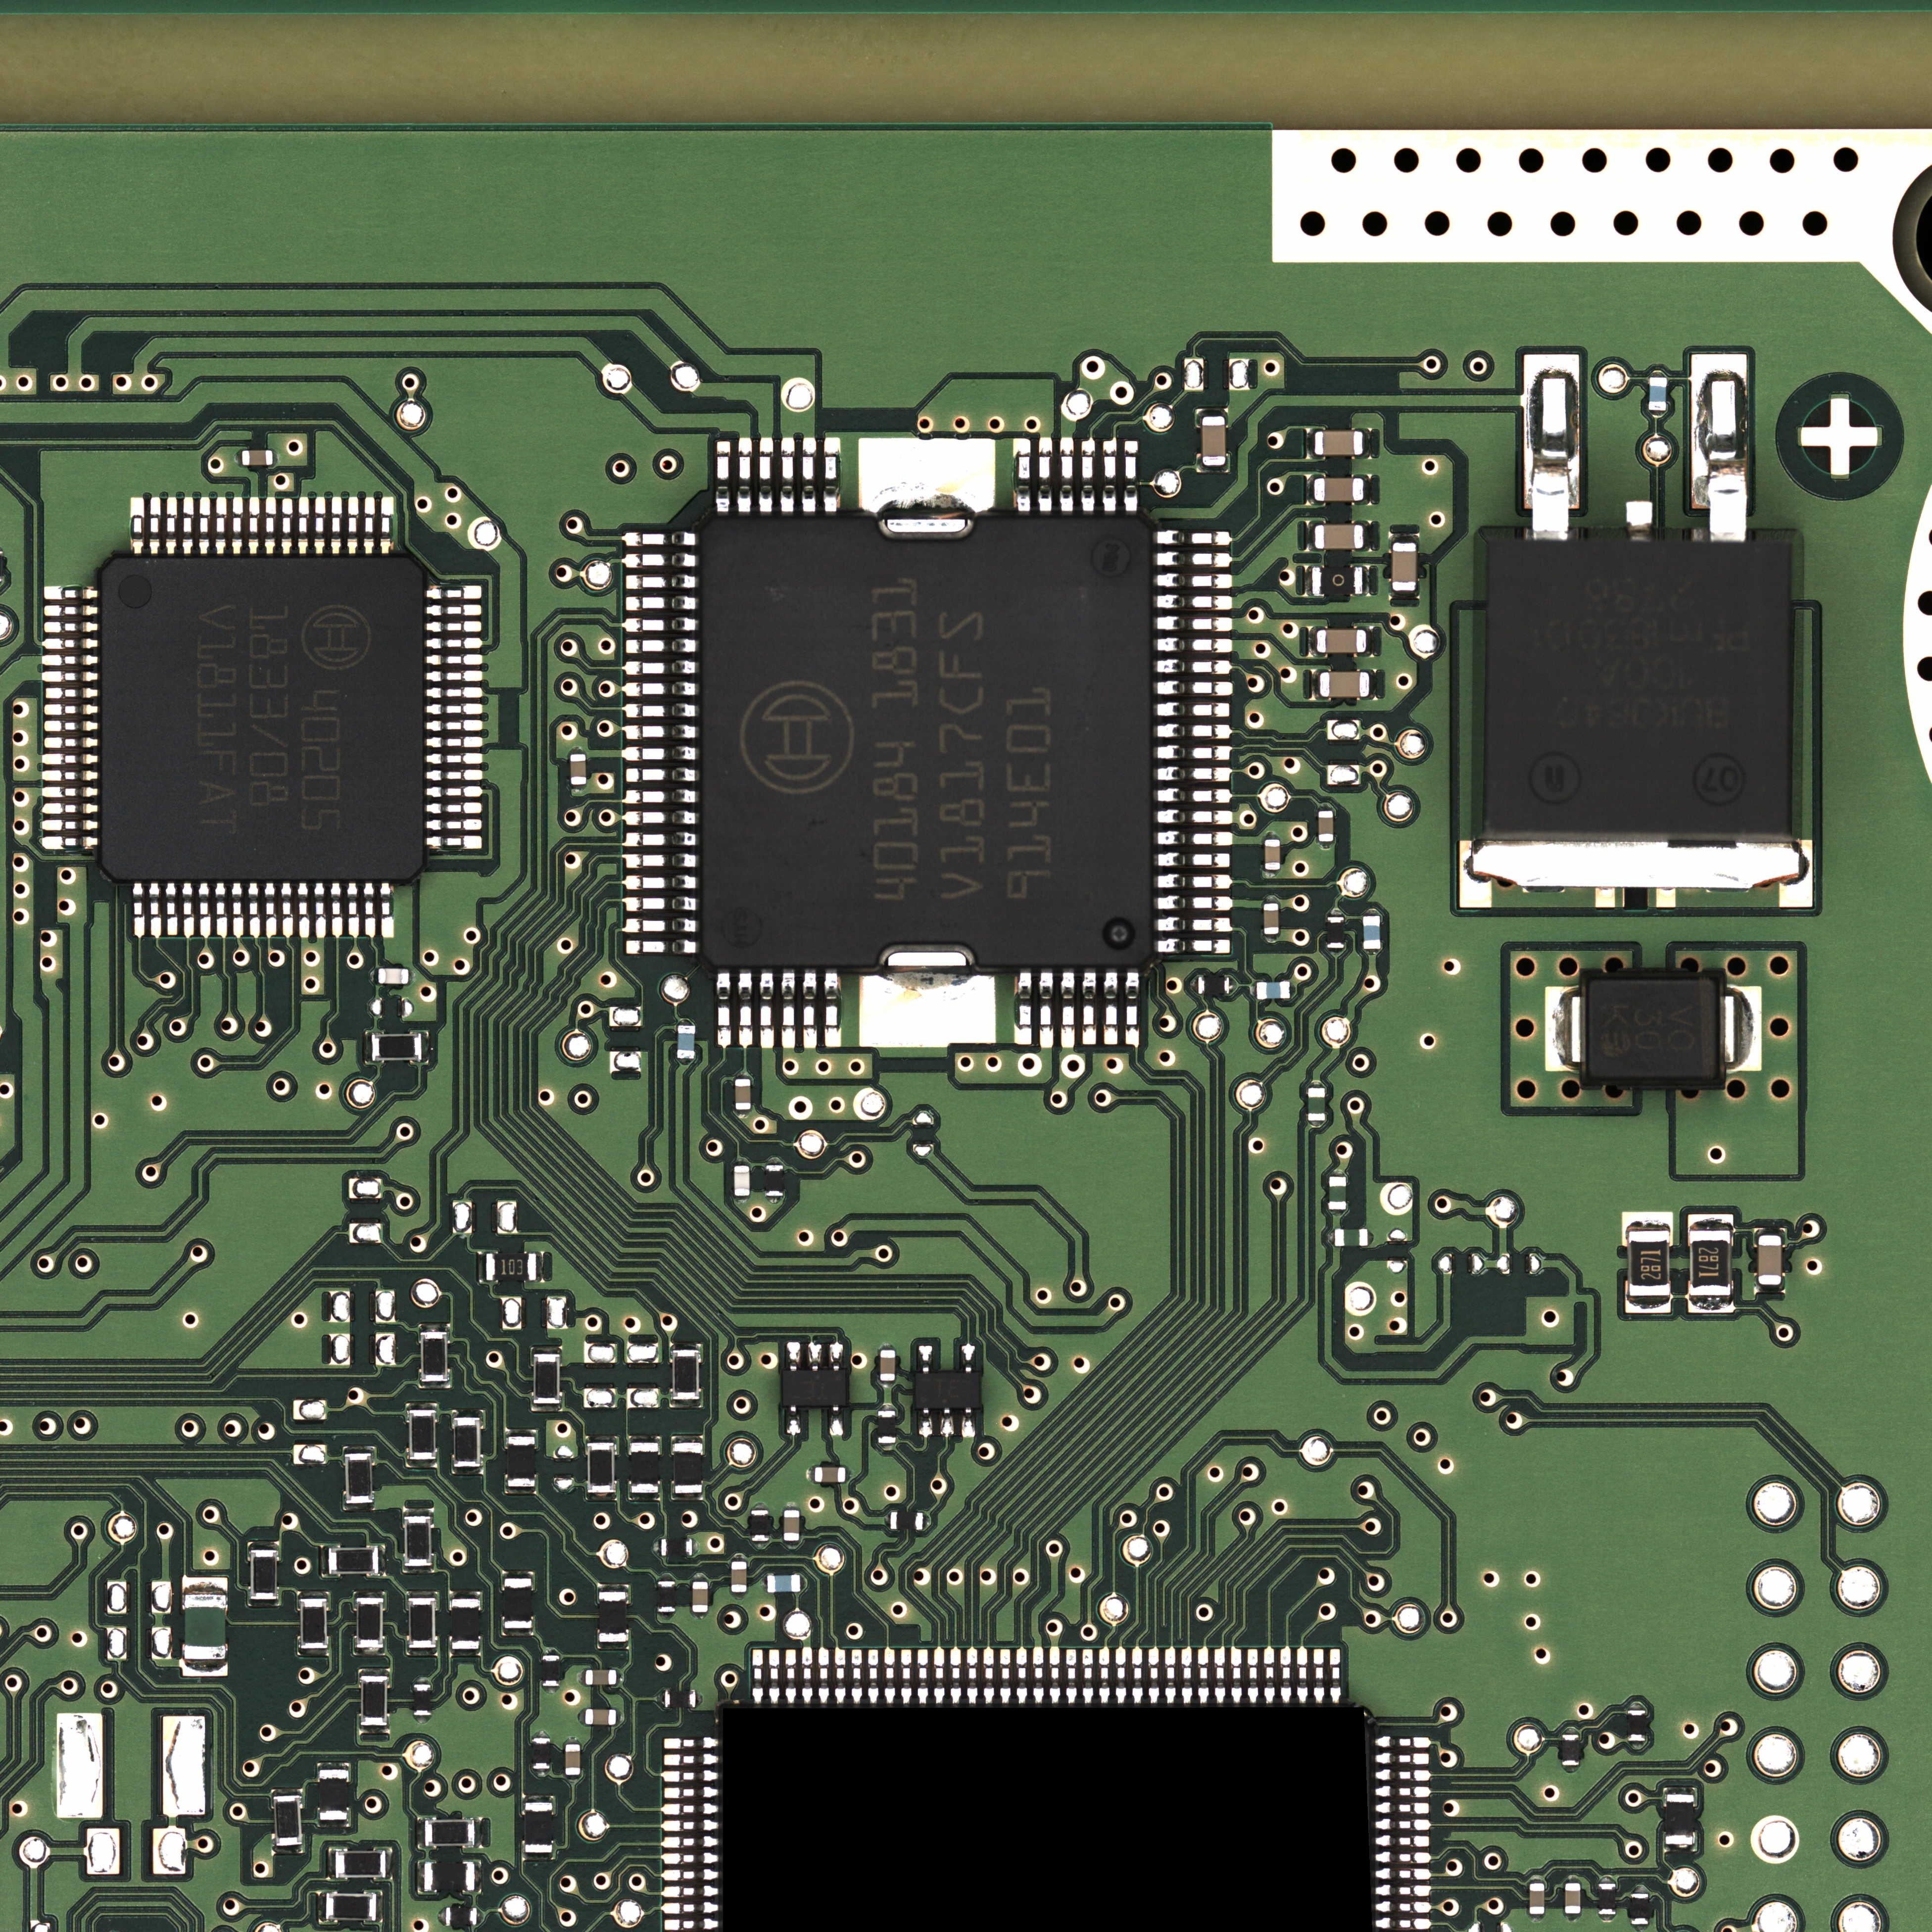Package: (701, 515, 1154, 968), (101, 556, 425, 881), (1486, 541, 1792, 842), (1587, 980, 1718, 1077), (184, 1594, 226, 1660), (1628, 1231, 1670, 1297), (1690, 1231, 1730, 1295), (915, 1373, 980, 1408), (782, 1371, 847, 1407), (318, 1769, 349, 1819), (630, 1442, 658, 1493), (485, 1253, 536, 1281), (1311, 568, 1362, 596), (674, 1444, 702, 1493), (598, 1592, 626, 1642), (451, 1599, 479, 1649), (425, 1863, 474, 1891), (1665, 1794, 1693, 1844), (336, 1851, 386, 1877), (504, 1578, 531, 1628), (672, 1350, 699, 1399), (326, 1893, 375, 1920), (508, 1437, 534, 1486), (329, 1548, 379, 1575), (361, 1675, 387, 1725), (409, 1410, 435, 1460), (587, 1444, 614, 1493), (421, 1332, 448, 1382), (274, 1796, 301, 1845), (525, 1803, 552, 1852), (1315, 430, 1364, 456), (425, 1821, 474, 1845), (372, 1035, 421, 1060), (405, 1516, 430, 1566), (251, 1550, 276, 1599), (357, 1598, 382, 1647), (455, 1417, 479, 1467), (409, 1598, 433, 1647), (1201, 416, 1226, 465), (1320, 672, 1369, 697), (1315, 524, 1364, 548), (347, 1454, 372, 1502), (301, 1599, 326, 1647), (534, 1355, 559, 1403), (1392, 543, 1417, 591), (1316, 630, 1366, 653), (1315, 478, 1364, 501), (1759, 1235, 1782, 1284), (750, 1509, 770, 1541), (678, 1024, 695, 1058), (890, 1513, 924, 1530), (878, 1410, 895, 1444), (766, 1575, 800, 1592), (1649, 377, 1667, 410), (1329, 1177, 1346, 1210), (1256, 982, 1290, 1000), (533, 1737, 550, 1769), (414, 1684, 432, 1716), (446, 1907, 478, 1925), (1362, 916, 1380, 948), (1327, 916, 1345, 948), (1307, 1088, 1325, 1120), (1198, 977, 1230, 994), (1562, 1734, 1580, 1766), (1631, 1893, 1649, 1925), (1628, 1709, 1645, 1741), (1598, 1882, 1615, 1914), (1334, 1230, 1368, 1246), (570, 754, 587, 784), (766, 1166, 784, 1196), (1318, 810, 1334, 842), (1265, 839, 1281, 870), (1529, 1882, 1545, 1914), (242, 449, 272, 465), (379, 968, 409, 984), (662, 1539, 692, 1555), (692, 1582, 708, 1612), (564, 1744, 580, 1775), (731, 1562, 747, 1592), (586, 1709, 616, 1725), (734, 1166, 750, 1196), (658, 1582, 674, 1612), (816, 1467, 846, 1483), (543, 1656, 559, 1686), (784, 1511, 800, 1541), (665, 1691, 695, 1707), (1263, 904, 1279, 934), (1564, 1882, 1580, 1913), (736, 1079, 750, 1109), (586, 1670, 616, 1684), (881, 1350, 895, 1380)
Solder: (1523, 354, 1580, 541), (858, 437, 994, 515), (860, 971, 996, 1049), (1691, 354, 1748, 540), (1718, 985, 1762, 1070), (1545, 987, 1587, 1070), (1780, 839, 1813, 908), (1460, 840, 1491, 908), (824, 970, 842, 1047), (1155, 938, 1231, 955), (1155, 529, 1231, 547), (1014, 970, 1031, 1046), (1154, 830, 1233, 846), (1155, 724, 1233, 740), (1155, 787, 1233, 803), (1155, 658, 1233, 674), (1155, 637, 1233, 653), (1155, 874, 1233, 890), (1155, 552, 1233, 568), (1155, 916, 1233, 932), (1155, 679, 1233, 695), (1155, 573, 1233, 589), (1155, 745, 1233, 761), (1155, 809, 1233, 824), (1155, 616, 1233, 632), (1155, 766, 1233, 782), (1155, 895, 1233, 911), (1155, 594, 1233, 610), (1060, 970, 1076, 1047), (1058, 435, 1074, 513), (623, 660, 699, 676), (623, 724, 699, 740), (1155, 702, 1231, 718), (1081, 970, 1097, 1046), (715, 437, 731, 513), (780, 437, 796, 513), (801, 437, 817, 513), (1016, 437, 1031, 513), (1123, 437, 1139, 513), (623, 702, 697, 718), (623, 810, 697, 826), (623, 681, 697, 697), (623, 617, 697, 633), (623, 552, 697, 568), (623, 853, 697, 869), (623, 789, 697, 805), (623, 531, 697, 547), (623, 832, 697, 847), (625, 939, 697, 955), (625, 918, 697, 934), (803, 970, 817, 1047), (782, 971, 796, 1049), (759, 971, 773, 1049), (1125, 968, 1139, 1046), (1039, 970, 1053, 1047), (1081, 435, 1095, 513), (1102, 435, 1116, 513), (623, 747, 699, 761), (1155, 853, 1231, 867), (1104, 970, 1118, 1046), (738, 437, 752, 513), (759, 437, 773, 513), (824, 437, 839, 513), (1039, 437, 1053, 513), (623, 876, 697, 890), (625, 596, 699, 610), (625, 897, 699, 911), (717, 973, 731, 1047), (738, 973, 752, 1047), (1626, 501, 1652, 540), (625, 639, 697, 653), (625, 575, 697, 589), (625, 768, 697, 782), (1622, 1212, 1674, 1231), (1624, 1295, 1672, 1313), (182, 1576, 228, 1594), (1688, 1214, 1734, 1231), (1688, 1295, 1734, 1313), (380, 883, 395, 939), (426, 586, 481, 600), (426, 835, 481, 849), (44, 586, 97, 600), (182, 1660, 228, 1675), (380, 495, 393, 554), (131, 497, 143, 556), (41, 837, 99, 849), (149, 497, 161, 556), (347, 497, 359, 556), (198, 497, 211, 556), (425, 736, 483, 748), (297, 497, 310, 556), (426, 686, 483, 699), (426, 671, 483, 683), (426, 637, 483, 649), (42, 637, 99, 649), (42, 671, 99, 683), (42, 770, 99, 782), (42, 786, 99, 798), (426, 786, 483, 798), (42, 819, 99, 832), (426, 770, 483, 782), (768, 1649, 780, 1706), (784, 1649, 796, 1706), (867, 1649, 879, 1706), (817, 1649, 830, 1706), (833, 1649, 846, 1706), (916, 1649, 929, 1706), (932, 1649, 945, 1706), (966, 1649, 978, 1706), (982, 1649, 994, 1706), (1016, 1649, 1028, 1706), (1031, 1649, 1044, 1706), (1065, 1649, 1077, 1706), (1148, 1649, 1161, 1706), (1164, 1649, 1177, 1706), (1180, 1649, 1192, 1706), (1198, 1647, 1210, 1704), (1214, 1647, 1226, 1704), (1247, 1649, 1260, 1706), (1099, 1647, 1111, 1704), (1115, 1647, 1127, 1704), (1081, 1649, 1093, 1706), (1297, 1647, 1309, 1704), (1313, 1647, 1325, 1704), (1375, 1884, 1431, 1897), (347, 883, 359, 938), (44, 621, 99, 633), (133, 883, 145, 938), (44, 686, 99, 699), (426, 819, 481, 832), (182, 883, 195, 938), (44, 736, 99, 748), (44, 720, 99, 732), (1263, 1649, 1276, 1704), (331, 495, 341, 556), (315, 495, 326, 556), (425, 704, 483, 715), (425, 720, 483, 731), (364, 497, 375, 556), (166, 497, 177, 556), (281, 497, 292, 556), (265, 497, 276, 556), (216, 497, 226, 556), (249, 497, 260, 556), (232, 497, 242, 556), (663, 1920, 722, 1930), (663, 1904, 722, 1914), (662, 1870, 720, 1881), (662, 1886, 720, 1897), (662, 1852, 720, 1863), (662, 1836, 720, 1847), (662, 1821, 720, 1831), (662, 1805, 720, 1815), (662, 1739, 720, 1750), (662, 1755, 720, 1766), (662, 1771, 720, 1782), (662, 1787, 720, 1798), (315, 883, 326, 939), (426, 655, 483, 665), (42, 655, 99, 665), (182, 497, 193, 554), (42, 803, 99, 814), (42, 754, 99, 764), (426, 754, 483, 764), (752, 1649, 763, 1706), (801, 1649, 812, 1706), (851, 1649, 862, 1706), (950, 1649, 961, 1706), (885, 1649, 895, 1706), (901, 1649, 911, 1706), (1000, 1649, 1010, 1706), (1049, 1649, 1060, 1706), (1132, 1649, 1143, 1706), (1330, 1647, 1341, 1704), (1375, 1753, 1431, 1764), (1375, 1785, 1431, 1796), (1375, 1852, 1431, 1863), (1375, 1918, 1431, 1928), (364, 883, 375, 938), (426, 605, 481, 616), (426, 621, 481, 632), (44, 605, 99, 616), (331, 883, 341, 938), (150, 883, 161, 938), (44, 704, 99, 715), (265, 883, 276, 938), (426, 803, 481, 814), (200, 883, 211, 938), (249, 883, 260, 938), (232, 883, 242, 938), (216, 883, 226, 938), (281, 883, 292, 938), (299, 883, 310, 938), (1231, 1649, 1242, 1704), (1281, 1649, 1292, 1704), (1375, 1737, 1430, 1748), (1375, 1769, 1430, 1780), (1375, 1821, 1430, 1831), (1375, 1803, 1430, 1813), (1375, 1835, 1430, 1845), (1375, 1902, 1430, 1913), (1375, 1868, 1430, 1879), (166, 883, 177, 936), (1656, 886, 1675, 908), (1596, 886, 1615, 908), (830, 1407, 844, 1435), (939, 1408, 954, 1437), (918, 1408, 932, 1437), (961, 1345, 975, 1373), (787, 1407, 800, 1435), (962, 1408, 975, 1437), (809, 1343, 821, 1371), (787, 1341, 800, 1369), (920, 1345, 932, 1373), (1304, 520, 1315, 552), (1302, 564, 1313, 596), (1309, 669, 1320, 701), (830, 1343, 842, 1369), (1362, 428, 1373, 458), (669, 1399, 702, 1408), (343, 1445, 375, 1454), (449, 1591, 481, 1599), (531, 1345, 563, 1353), (536, 1251, 545, 1283), (531, 1403, 563, 1412), (478, 1251, 487, 1283), (1306, 428, 1315, 460), (1196, 407, 1228, 416), (419, 1323, 449, 1332), (421, 1031, 430, 1062), (407, 1460, 437, 1468), (272, 1845, 303, 1854), (407, 1647, 437, 1656), (359, 1725, 389, 1734), (318, 1760, 349, 1769), (318, 1819, 349, 1828), (453, 1467, 483, 1476), (506, 1428, 536, 1437), (672, 1435, 702, 1444), (598, 1583, 628, 1592), (506, 1486, 536, 1495), (502, 1628, 533, 1637), (1364, 474, 1373, 504), (1369, 669, 1378, 699), (1362, 566, 1371, 596), (1389, 591, 1419, 600), (1366, 626, 1375, 656), (1389, 533, 1419, 541), (1307, 626, 1316, 656), (1755, 1284, 1785, 1293), (1665, 1844, 1695, 1852), (299, 1591, 327, 1599), (249, 1541, 278, 1550), (356, 1647, 384, 1656), (1364, 522, 1373, 550), (1306, 476, 1315, 504), (1196, 465, 1230, 472), (343, 1504, 375, 1511), (327, 1849, 334, 1881), (318, 1891, 326, 1923), (586, 1435, 617, 1442), (522, 1852, 554, 1859), (419, 1382, 449, 1389), (407, 1403, 437, 1410), (453, 1410, 483, 1417), (403, 1509, 433, 1516), (359, 1668, 389, 1675), (386, 1849, 393, 1879), (418, 1861, 425, 1891), (474, 1817, 481, 1847), (379, 1545, 386, 1575), (474, 1861, 481, 1891), (403, 1566, 433, 1573), (375, 1891, 382, 1921), (671, 1343, 701, 1350), (672, 1493, 702, 1500), (630, 1493, 660, 1500), (502, 1571, 533, 1578), (598, 1642, 628, 1649), (1755, 1228, 1785, 1235), (1665, 1787, 1695, 1794), (364, 1033, 372, 1062), (322, 1546, 329, 1575), (356, 1591, 384, 1598), (451, 1649, 479, 1656), (418, 1819, 425, 1847), (299, 1649, 327, 1656), (249, 1599, 278, 1606), (409, 1591, 437, 1598), (272, 1789, 301, 1796), (524, 1796, 552, 1803), (587, 1493, 616, 1500), (412, 1714, 432, 1723), (878, 1442, 897, 1451), (656, 1690, 665, 1709), (1189, 975, 1198, 994), (628, 1437, 660, 1442), (437, 1907, 446, 1925), (658, 1612, 676, 1621), (1598, 1875, 1615, 1884), (1628, 1702, 1645, 1711), (1631, 1923, 1649, 1932), (695, 1691, 704, 1707), (658, 1573, 674, 1582), (616, 1709, 625, 1725), (807, 1467, 816, 1483), (752, 1502, 768, 1511), (412, 1677, 432, 1684), (1290, 980, 1297, 1000), (678, 1019, 695, 1026), (678, 1058, 695, 1065), (766, 1159, 784, 1166), (533, 1769, 550, 1776), (761, 1575, 768, 1592), (1362, 909, 1380, 916), (1327, 909, 1345, 916), (1307, 1120, 1325, 1127), (1307, 1081, 1325, 1088), (1329, 1169, 1346, 1177), (1230, 977, 1237, 994), (1649, 370, 1667, 377), (1566, 1875, 1580, 1884), (1562, 1766, 1580, 1773), (1628, 1741, 1645, 1748), (1598, 1914, 1615, 1921), (1562, 1727, 1580, 1734), (1631, 1886, 1649, 1893), (235, 449, 242, 465), (272, 449, 280, 465), (476, 1909, 483, 1925), (570, 784, 586, 791), (879, 1403, 895, 1410), (734, 1159, 750, 1166), (879, 1380, 895, 1387), (879, 1343, 895, 1350), (692, 1575, 708, 1582), (543, 1686, 559, 1693), (564, 1737, 580, 1744), (564, 1775, 580, 1782), (731, 1592, 747, 1599), (579, 1709, 586, 1725), (846, 1467, 853, 1483), (543, 1649, 559, 1656), (731, 1555, 747, 1562), (692, 1612, 708, 1619), (800, 1575, 807, 1591), (533, 1730, 548, 1737), (579, 1670, 586, 1686), (784, 1504, 800, 1511), (924, 1513, 931, 1529), (784, 1541, 800, 1548), (752, 1541, 768, 1548), (1265, 832, 1281, 839), (1263, 897, 1279, 904), (1318, 803, 1334, 810), (1364, 948, 1380, 955), (1265, 870, 1281, 878), (1327, 1230, 1334, 1246), (1368, 1230, 1375, 1246), (1564, 1914, 1580, 1921), (1529, 1877, 1545, 1884), (1529, 1914, 1545, 1921), (372, 970, 379, 984), (409, 970, 416, 984), (616, 1670, 623, 1684), (1265, 934, 1279, 941), (766, 1196, 784, 1201), (885, 1511, 890, 1529), (1327, 948, 1345, 954), (1329, 1210, 1346, 1215), (1251, 982, 1256, 1000), (1649, 410, 1667, 416), (570, 748, 586, 754), (734, 1196, 750, 1201), (736, 1109, 752, 1115), (1318, 842, 1334, 847), (736, 1074, 750, 1079)
